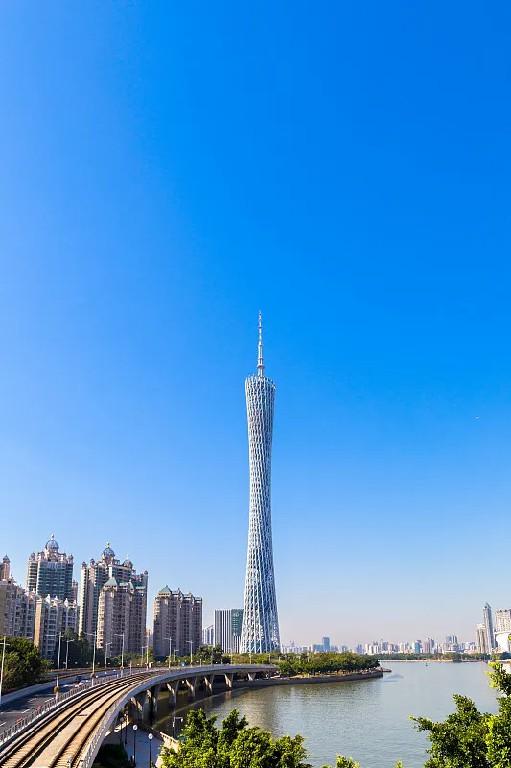Canton: (233, 308, 287, 659)
